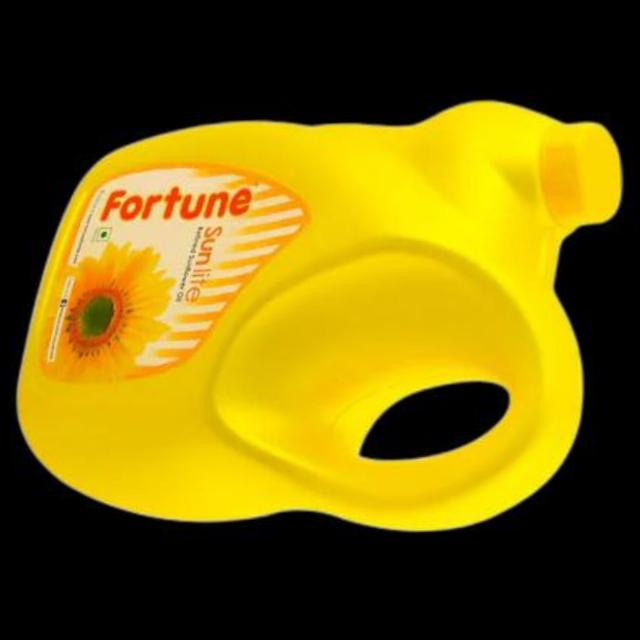Fortune Sunlite Refined Sunflower Oil 5 L: (2, 96, 634, 554)
